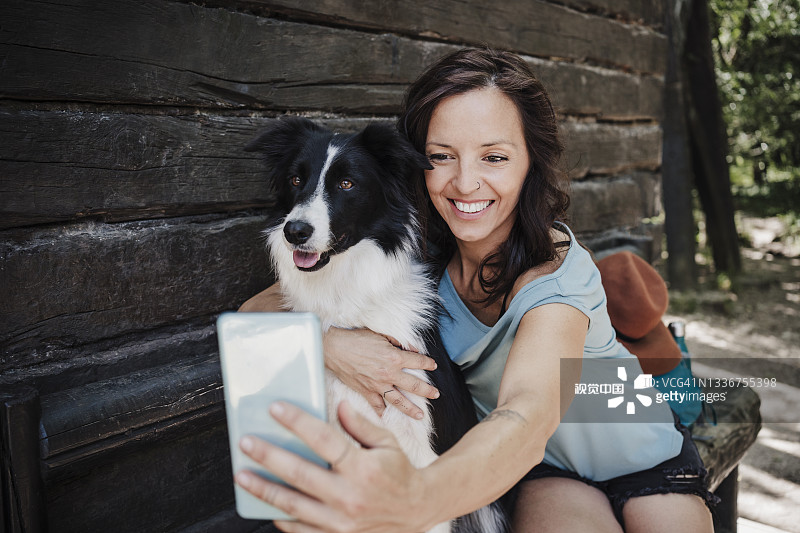taking photos: (199, 380, 440, 533)
